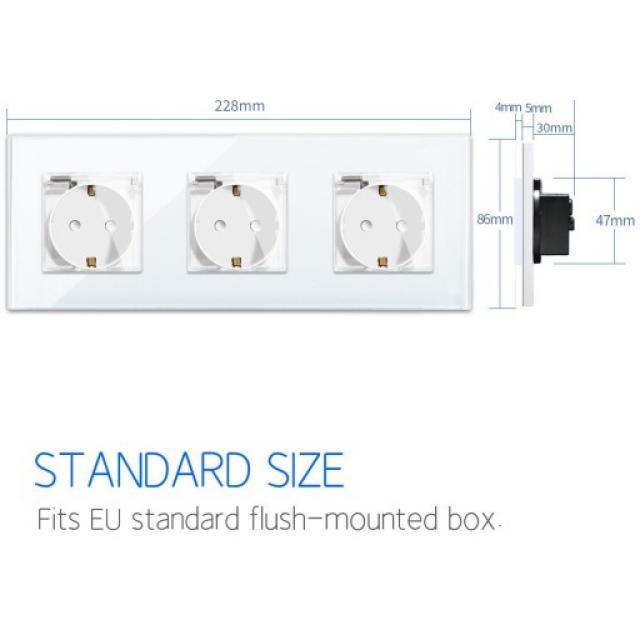typeb: (0, 96, 531, 386)
